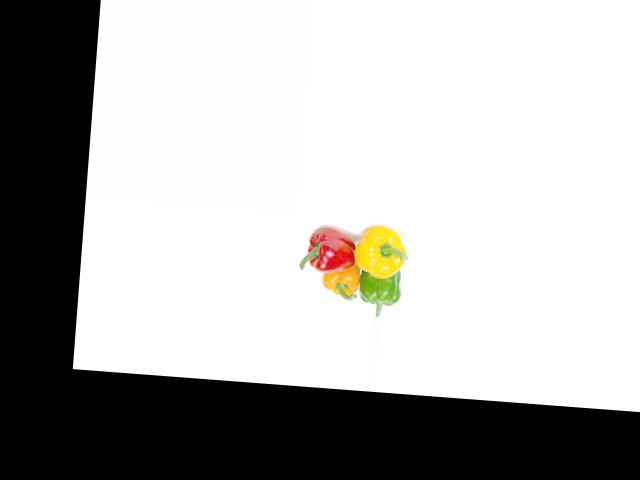bell_pepper: (350, 222, 413, 280)
